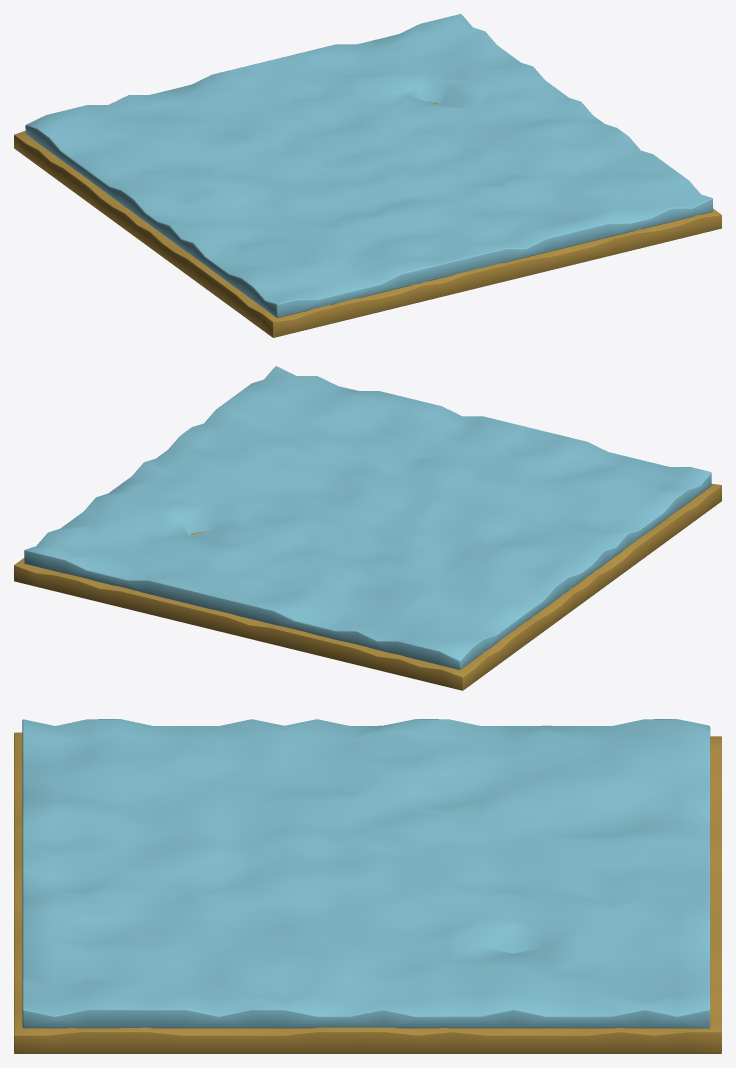
Rendered from water-rise7-2.glb.
3 views of the same model, one above another, from view 1: azimuth 30°, elevation 25°; view 2: azimuth 150°, elevation 25°; view 3: azimuth 270°, elevation 25° (orthographic). The views are drawn at different scales.
Visible parts, largest first — view 1: Sea, Sand; view 2: Sea, Sand; view 3: Sea, Sand.
Part boxes in pixels (<box>): Sea: <box>25,14,712,317</box>; Sand: <box>14,101,721,337</box>; Sea: <box>24,366,711,669</box>; Sand: <box>14,484,721,690</box>; Sea: <box>22,719,710,1028</box>; Sand: <box>14,732,721,1053</box>.
Size of the model in its own units: 107 by 6.87 by 107.
